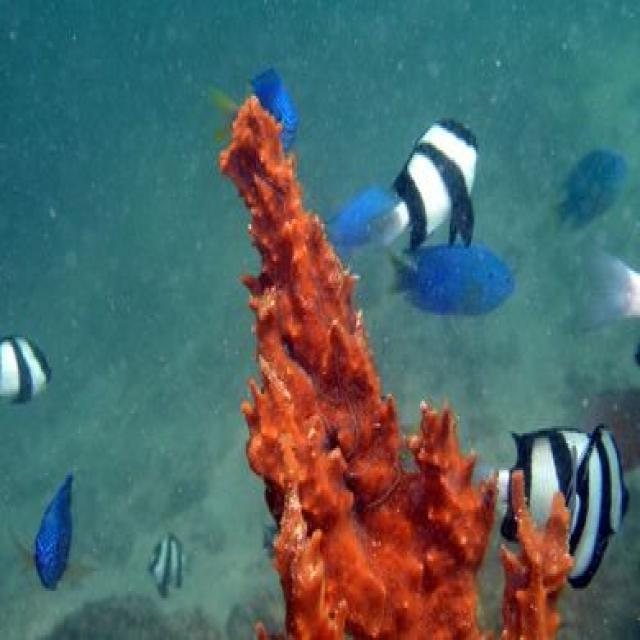Three_striped DasmselFish: (501, 417, 630, 579), (371, 113, 483, 261), (0, 337, 47, 407), (144, 533, 189, 598)
